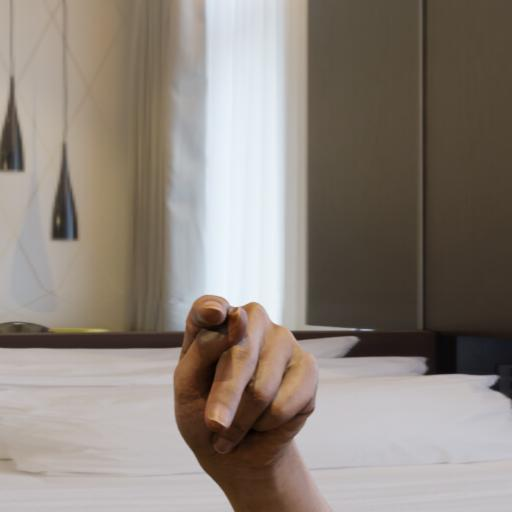P: (98, 249, 345, 512)
